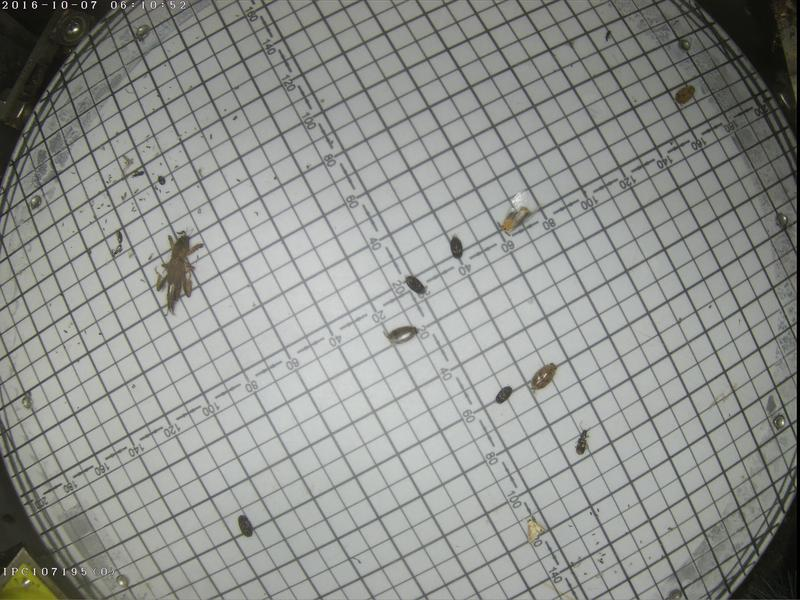Gryllotalpa orientalis: (152, 224, 207, 318)
